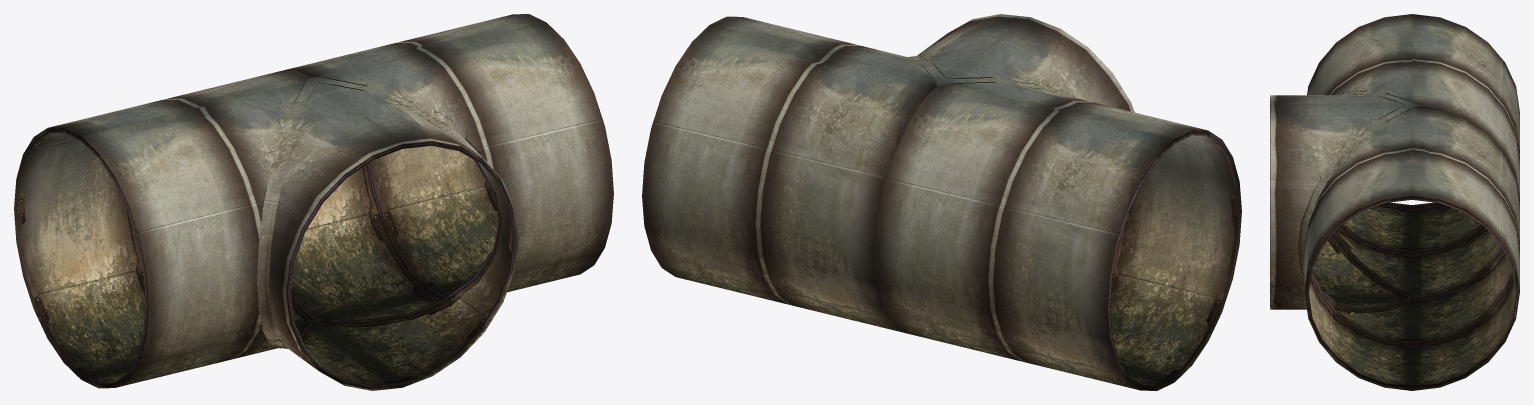
File: flush_tunnel_02_07_3way_shortened.dae
3 renders of one model, left to right at view 1: azimuth 30°, elevation 25°; view 2: azimuth 150°, elevation 25°; view 3: azimuth 270°, elevation 25°, orthographic. The views are drawn at different scales.
Visible parts, largest first — view 1: polySurface1177; view 2: polySurface1177; view 3: polySurface1177.
Part boxes in pixels (x1,y1,x2,y2): polySurface1177: (14,14,613,390); polySurface1177: (642,14,1241,390); polySurface1177: (1270,14,1519,390).
Size of the model in its own units: 8 by 4.01 by 4.64.
